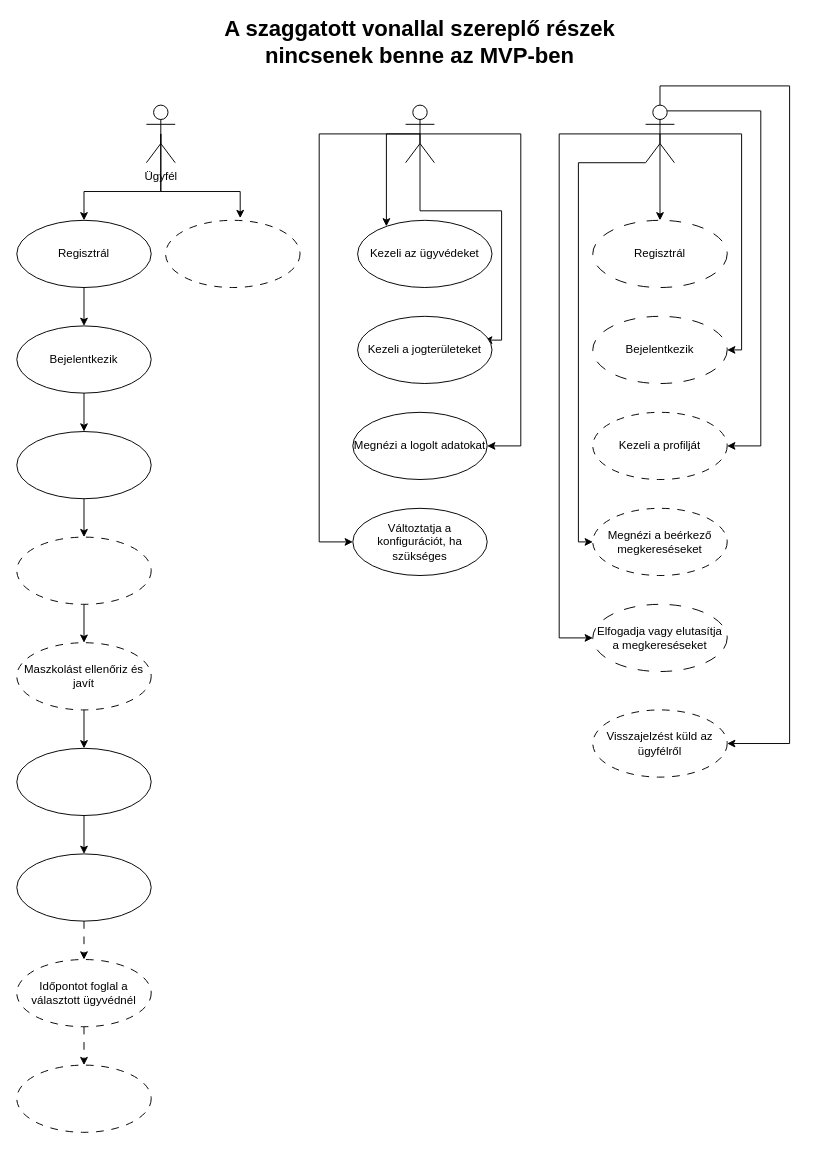
The diagram is 814 pixels wide and 1149 high, and some of its shapes have lost their labels. The box of each missing label's shape, as (x1, y1, x2, y2) in pixels:
Dokumentumot tölt fel: (16, 536, 151, 604)
Lekérheti, módosíthatja vagy törölheti az adatait: (165, 219, 300, 288)
Megnézi az ajánlott ügyvédeket: (16, 853, 151, 921)
Rendszergazda: (405, 104, 434, 163)
Tisztázó kérdésekre válaszol: (16, 747, 151, 816)
Visszajelzést küld az ügyvédről: (16, 1064, 151, 1132)
Ügyet beküld szabad szöveggel: (16, 431, 151, 499)
Ügyvéd: (645, 104, 674, 163)
